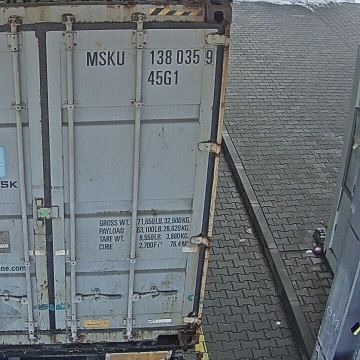serial_id: (86, 49, 213, 66)
